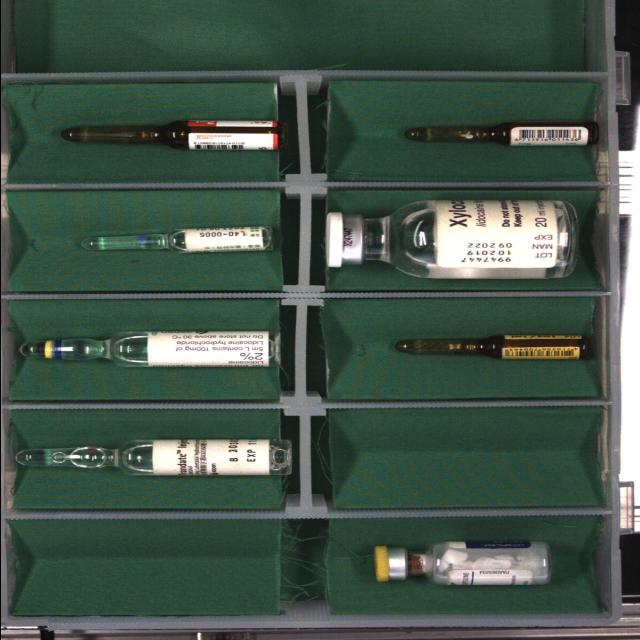Vials: (325, 201, 575, 279), (373, 541, 550, 585)
